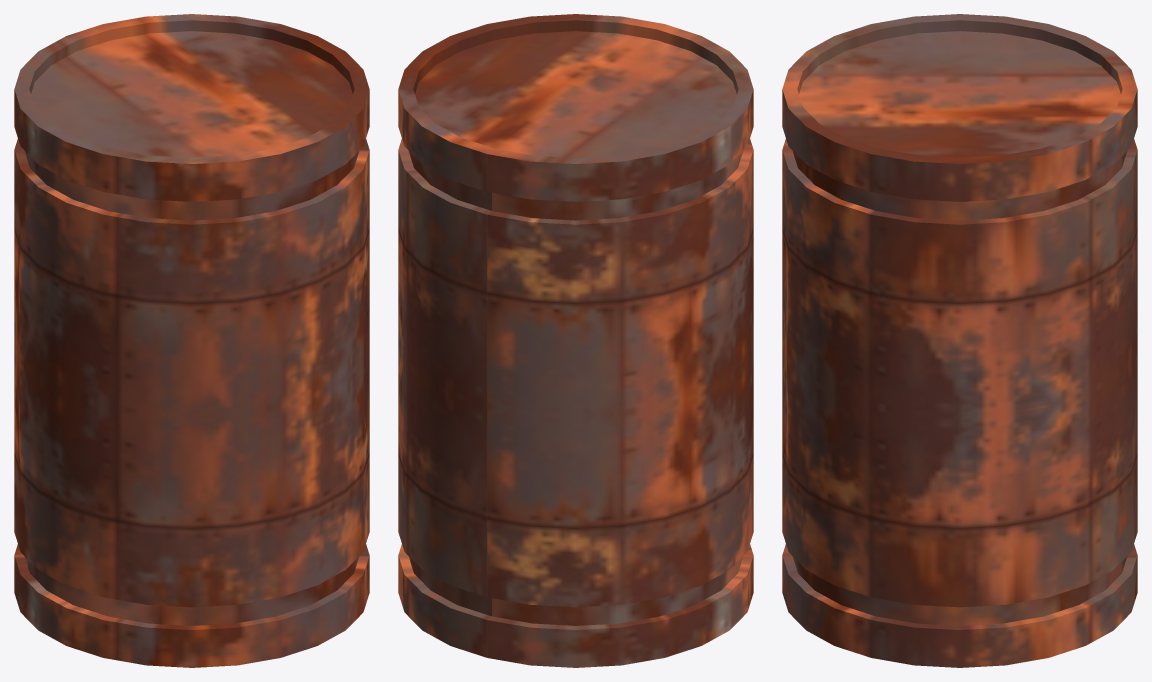
The model's file is barril_metal.fbx.
3 views of the same model, side by side, from view 1: azimuth 30°, elevation 25°; view 2: azimuth 150°, elevation 25°; view 3: azimuth 270°, elevation 25° (orthographic).
Visible parts, largest first — view 1: barril metal; view 2: barril metal; view 3: barril metal.
Part boxes in pixels (<box>): barril metal: <box>14,14,369,667</box>; barril metal: <box>398,14,753,667</box>; barril metal: <box>782,14,1137,667</box>.
Size of the model in its own units: 59.8 by 93.6 by 59.8.
